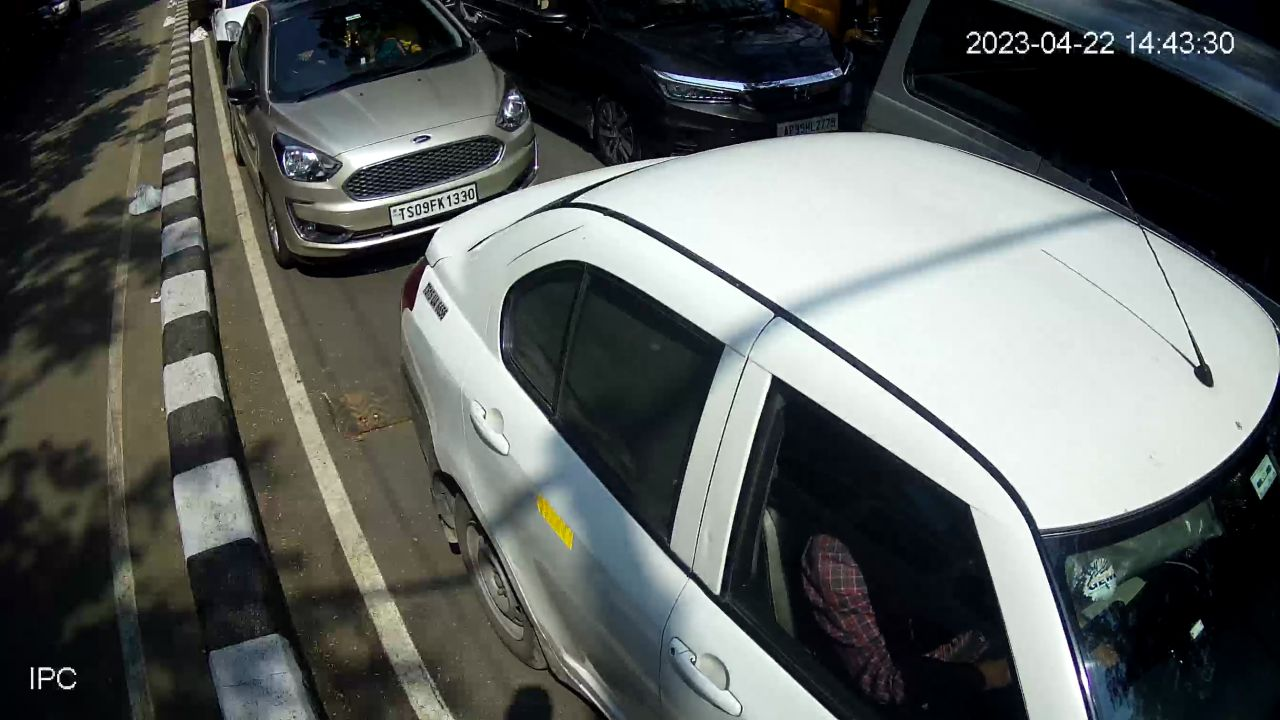license_plate: (384, 176, 483, 230), (774, 106, 845, 144)
